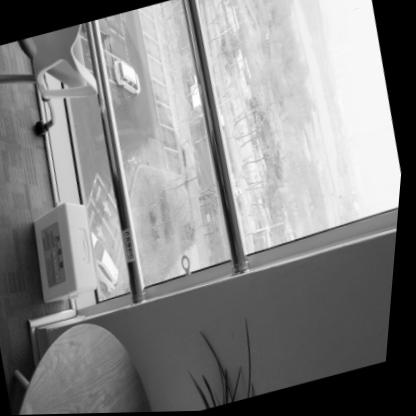DDL: (26, 197, 109, 302)
